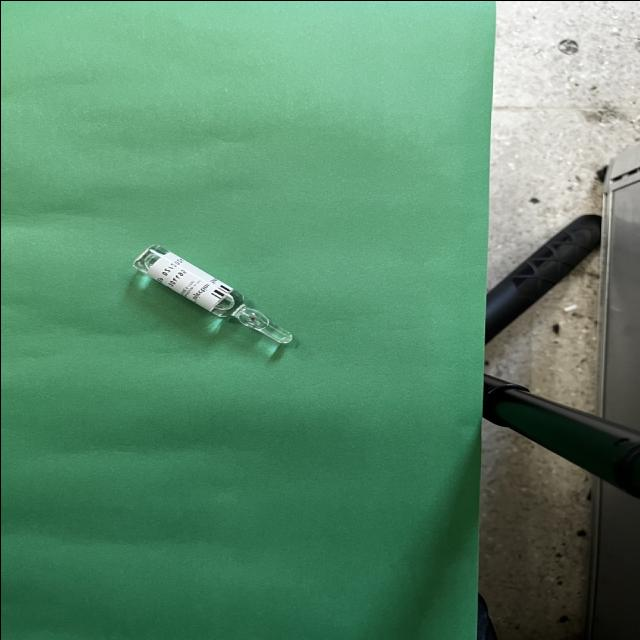Ampoules: (131, 244, 293, 344)
